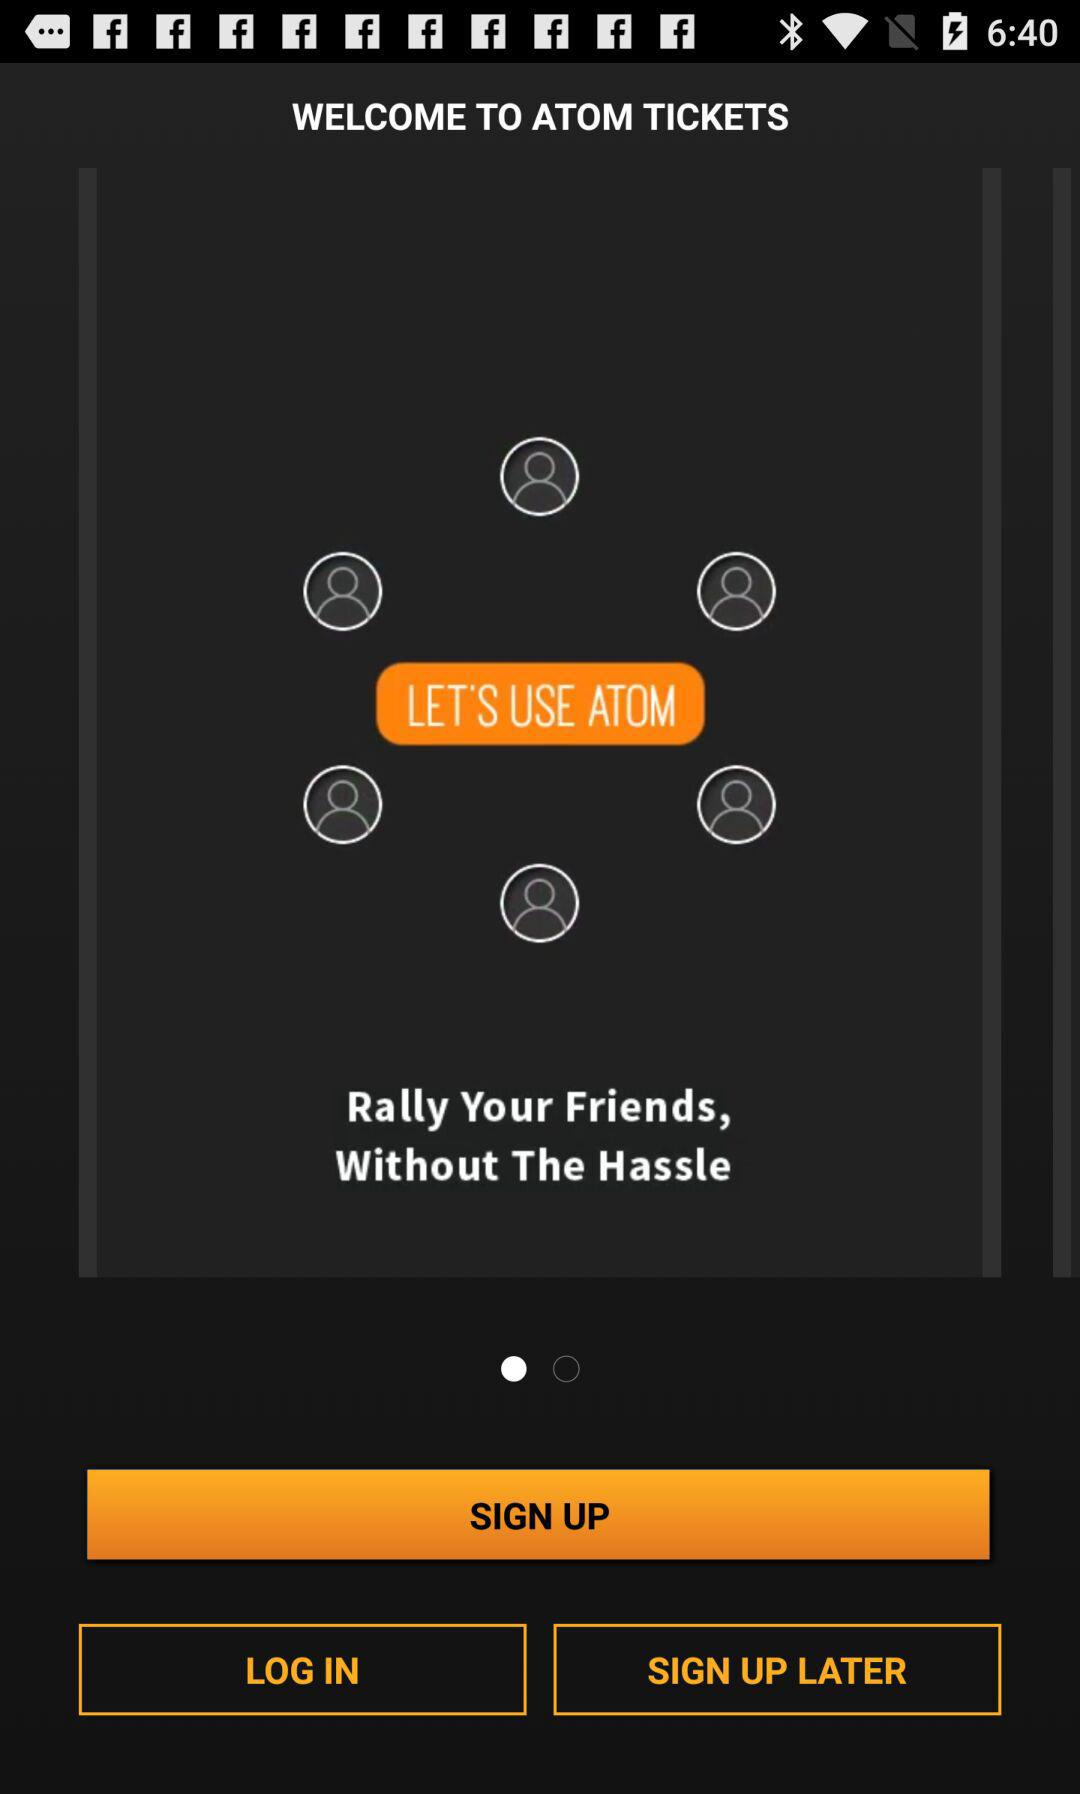Image: (302, 436, 778, 946)
PageIndicator: (500, 1354, 582, 1384)
Text: (334, 1088, 732, 1183), (291, 103, 789, 133)
TextButton: (87, 1469, 990, 1559), (79, 1624, 528, 1717), (553, 1624, 1002, 1716)
UpperTaskBar: (1, 1, 1080, 64)
